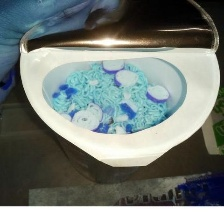paper_cup: (13, 0, 224, 188)
